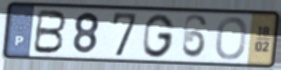6: (180, 13, 209, 61)
7: (111, 11, 138, 58)
8: (71, 10, 102, 56)
B: (31, 9, 69, 56)
G: (141, 12, 177, 59)
O: (214, 15, 249, 62)
